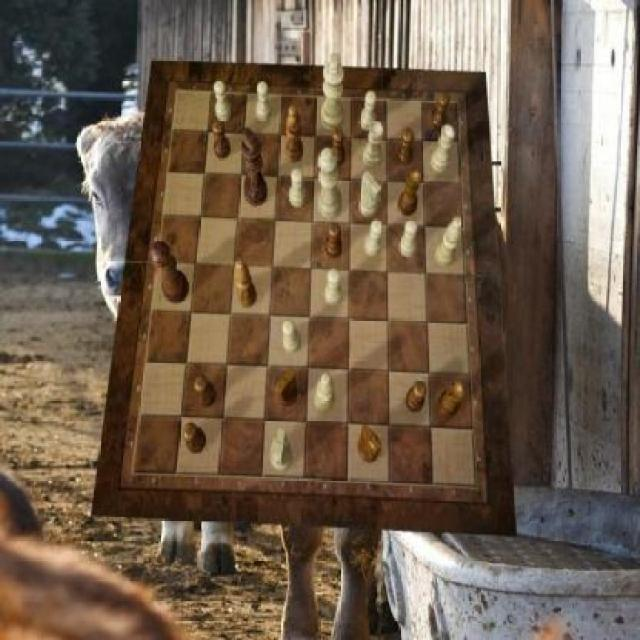bishop: (235, 257, 258, 308), (286, 106, 304, 165)
black-bishop: (242, 128, 268, 206)
black-king: (358, 424, 382, 464), (276, 368, 298, 408)
black-knight: (212, 120, 232, 160), (431, 92, 451, 132), (194, 376, 217, 410), (183, 421, 206, 454), (406, 381, 427, 414), (395, 128, 413, 166), (326, 222, 343, 259), (330, 128, 346, 166)
black-pawn: (149, 241, 190, 304)
black-queen: (398, 170, 422, 216), (437, 382, 465, 420)
black-rook: (436, 217, 462, 268), (314, 372, 334, 414)
white-bishop: (322, 54, 344, 132)
white-king: (360, 172, 383, 218), (269, 428, 292, 470)
white-knight: (398, 219, 418, 256), (214, 80, 231, 122), (360, 91, 377, 131), (289, 169, 306, 208), (365, 219, 382, 256), (257, 82, 272, 123), (282, 319, 300, 353), (325, 270, 342, 306)
white-pawn: (318, 148, 342, 220)
white-queen: (431, 124, 455, 174), (363, 121, 383, 168)
